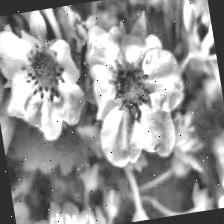Blossom Blight: (16, 37, 72, 107)
